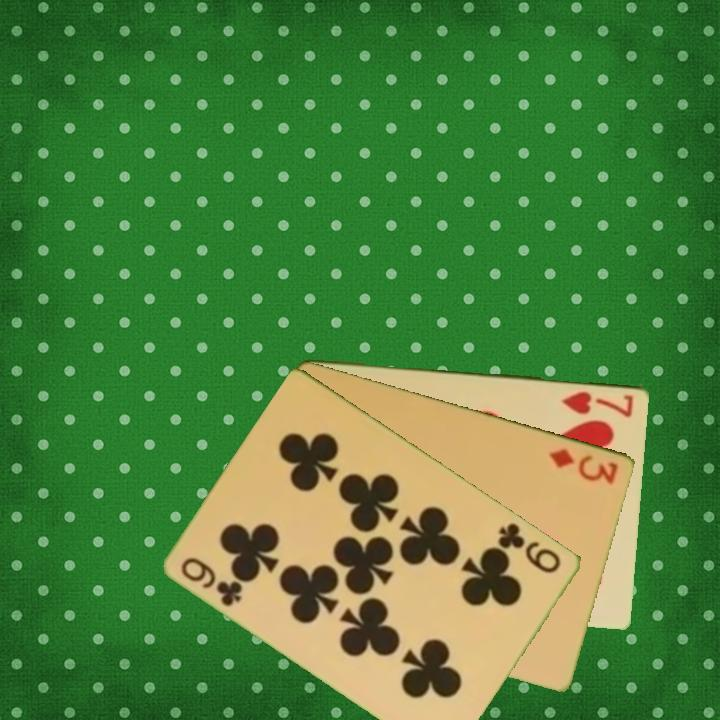3d: (546, 444, 621, 487)
7h: (558, 387, 637, 420)
9c: (494, 519, 565, 576), (177, 553, 247, 610)
